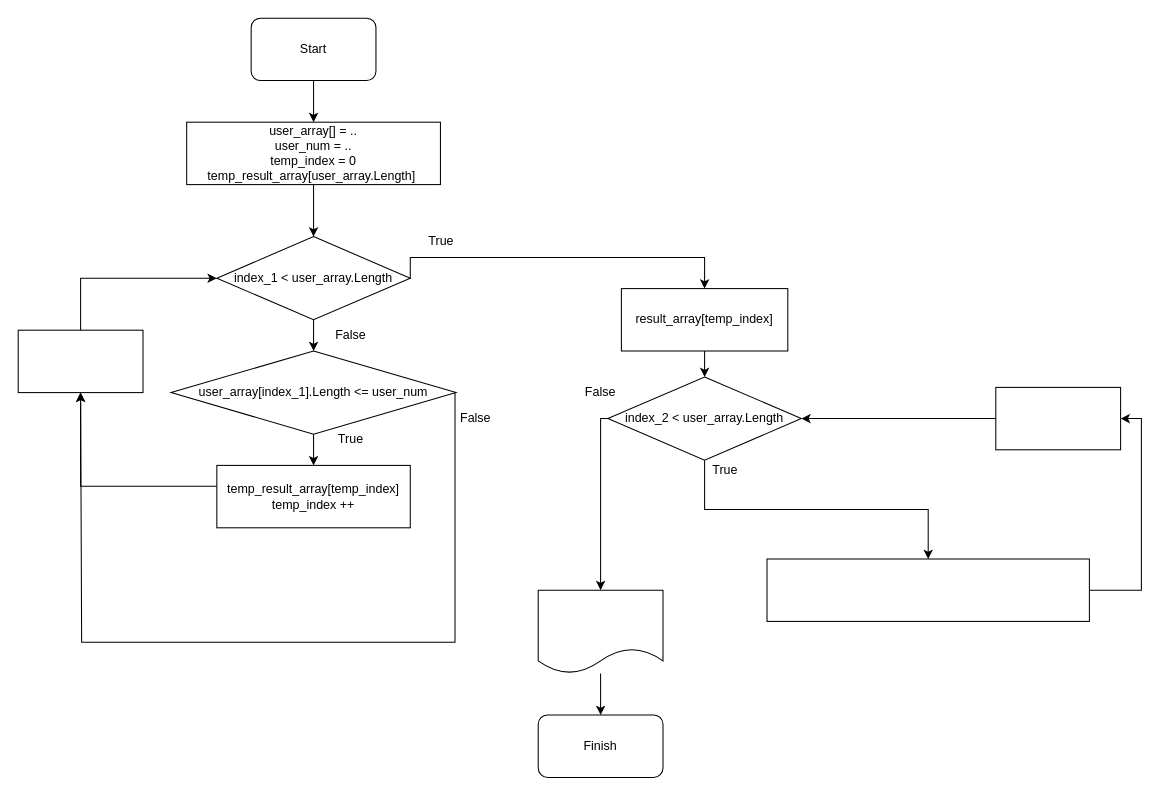
Some shapes in this 1168 by 796 pixel diagram are drawn without their labels. Here are the shapes that lost their labels. From the top down, the centre of each, then its label:
At point 80,361: "index_1 ++".
At point 1058,418: "index_2 ++".
At point 927,589: "result_array[index_2] = temp_result_array[index_2]".
At point 600,631: "result_array".
